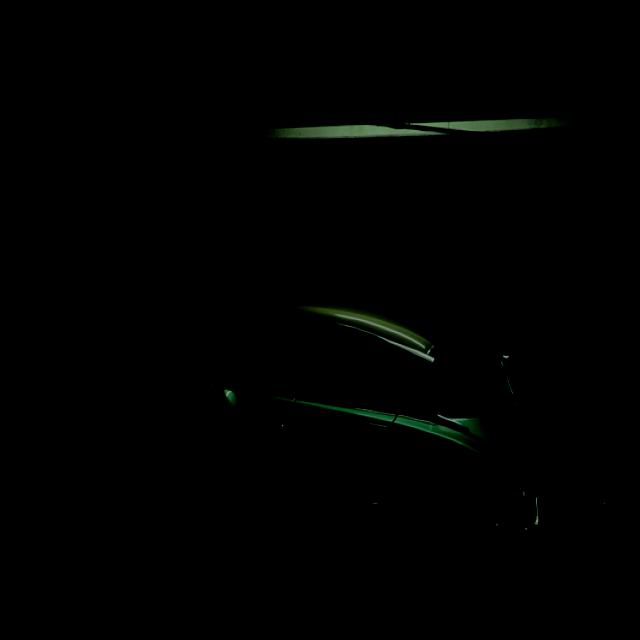Car: (51, 248, 613, 566)
